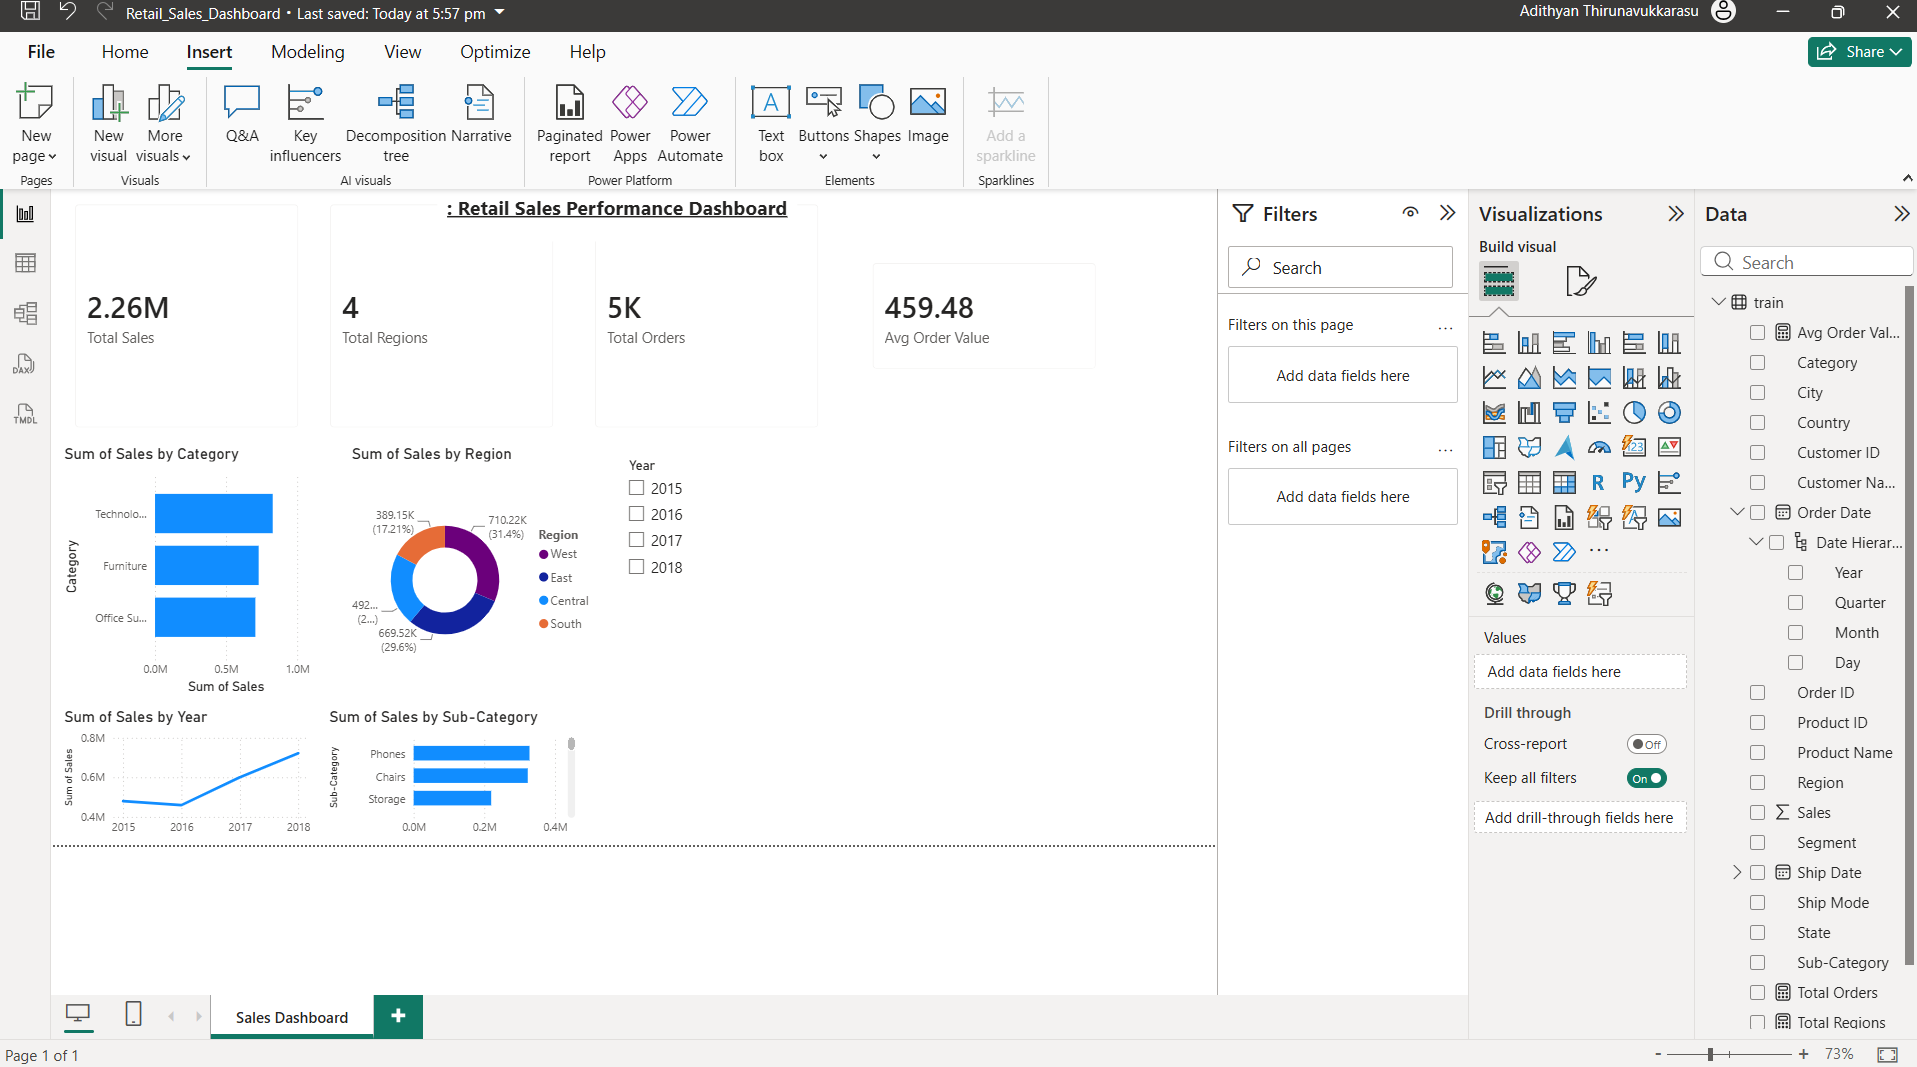

The dashboard page shown, as its layout file describes it:
{"tool":"powerbi","page":{"name":" Sales Dashboard","canvas":[1280,720],"ordinal":0},"visuals":[{"type":"cardVisual","fields":{"Data":["train.Total Sales"]},"box":[9.6,0,279.9,279.9],"z":0},{"type":"cardVisual","fields":{"Data":["train.Total Orders"]},"box":[580.4,0,279.9,279.9],"z":1000},{"type":"cardVisual","fields":{"Data":["train.Avg Order Value"]},"box":[885.1,64.5,279.9,150.9],"z":2000},{"type":"cardVisual","fields":{"Data":["train.Total Regions"]},"box":[289.5,0,279.9,279.9],"z":3000},{"type":"clusteredBarChart","fields":{"Category":["train.Category"],"Y":["Sum(train.Sales)"]},"box":[9.6,279.9,279.9,279.9],"z":4000},{"type":"lineChart","fields":{"Category":["train.Order Date.Variation.Date Hierarchy.Year","train.Order Date.Variation.Date Hierarchy.Quarter","train.Order Date.Variation.Date Hierarchy.Month","train.Order Date.Variation.Date Hierarchy.Day"],"Y":["Sum(train.Sales)"]},"box":[10,570,280,150],"z":5000},{"type":"donutChart","fields":{"Category":["train.Region"],"Y":["Sum(train.Sales)"]},"box":[325.2,279.9,279.9,279.9],"z":6000},{"type":"clusteredBarChart","fields":{"Category":["train.Sub-Category"],"Y":["Sum(train.Sales)"]},"box":[300,570,280,150],"z":7000},{"type":"slicer","fields":{"Values":["train.Order Date.Variation.Date Hierarchy.Year"]},"box":[621.6,289.5,279.9,279.9],"z":8000},{"type":"textbox","box":[424,0,395.2,57.6],"z":8001}]}

Visuals, with their boxes on the page's 1280x720 design canvas (x1, y1, x2, y2). These are canvas units, not pixel positions in the 1917x1067 screenshot, which may show the page scaled, cropped or inside an application window:
cardVisual - train.Total Sales: crop(10, 0, 290, 280)
cardVisual - train.Total Orders: crop(580, 0, 860, 280)
cardVisual - train.Avg Order Value: crop(885, 64, 1165, 215)
cardVisual - train.Total Regions: crop(290, 0, 569, 280)
clusteredBarChart - train.Category x Sum(train.Sales): crop(10, 280, 290, 560)
lineChart - train.Order Date.Variation.Date Hierarchy.Year x train.Order Date.Variation.Date Hierarchy.Quarter: crop(10, 570, 290, 720)
donutChart - train.Region x Sum(train.Sales): crop(325, 280, 605, 560)
clusteredBarChart - train.Sub-Category x Sum(train.Sales): crop(300, 570, 580, 720)
slicer - train.Order Date.Variation.Date Hierarchy.Year: crop(622, 290, 902, 569)
textbox: crop(424, 0, 819, 58)
